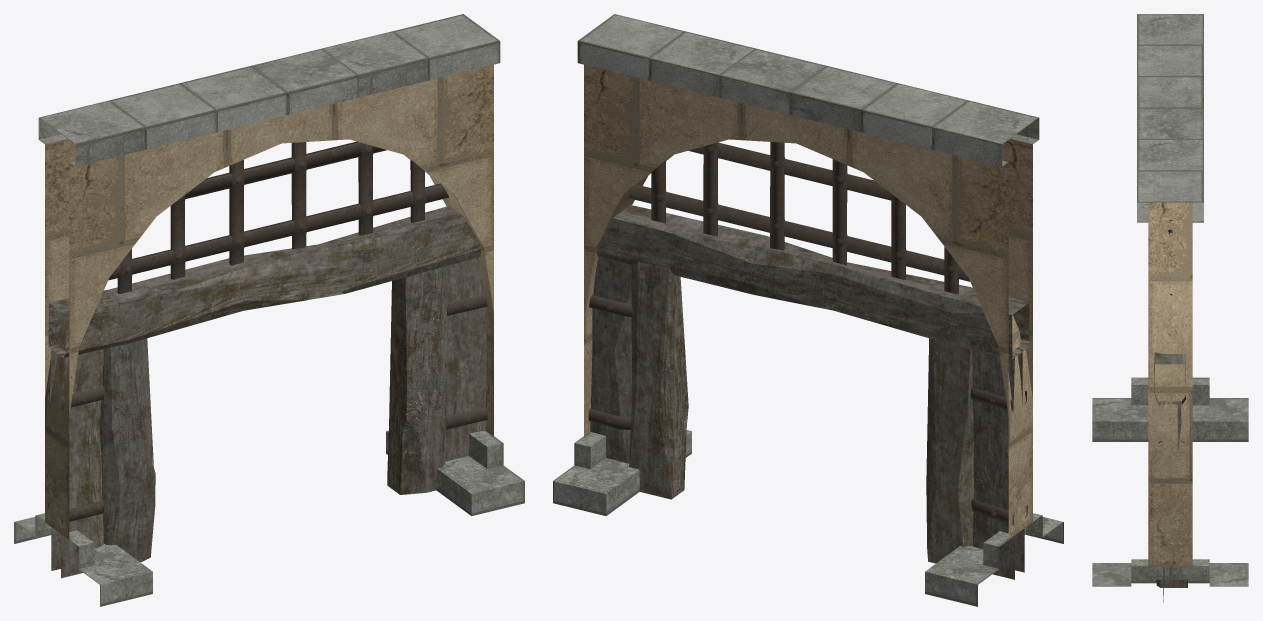
The model's file is arch_iron_2U.fbx.
The picture shows the model from 3 angles, left to right: view 1: azimuth 30°, elevation 25°; view 2: azimuth 150°, elevation 25°; view 3: azimuth 270°, elevation 25°; orthographic projection. The views are drawn at different scales.
Parts seen in each view (by area): view 1: arch_iron_2U; view 2: arch_iron_2U; view 3: arch_iron_2U.
Part boxes in pixels (x1=…): arch_iron_2U: x1=14, y1=14, x2=524, y2=606; arch_iron_2U: x1=553, y1=14, x2=1063, y2=606; arch_iron_2U: x1=1092, y1=14, x2=1248, y2=602.
Size of the model in its own units: 201 by 201 by 70.
